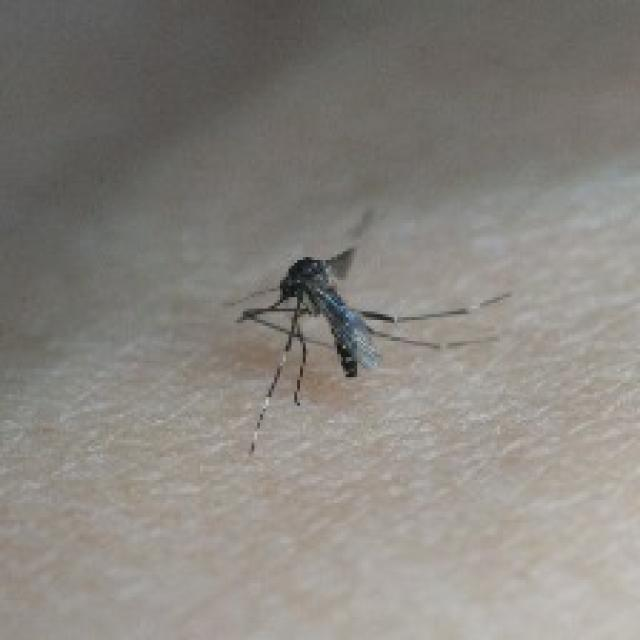aedes: (226, 240, 511, 454)
